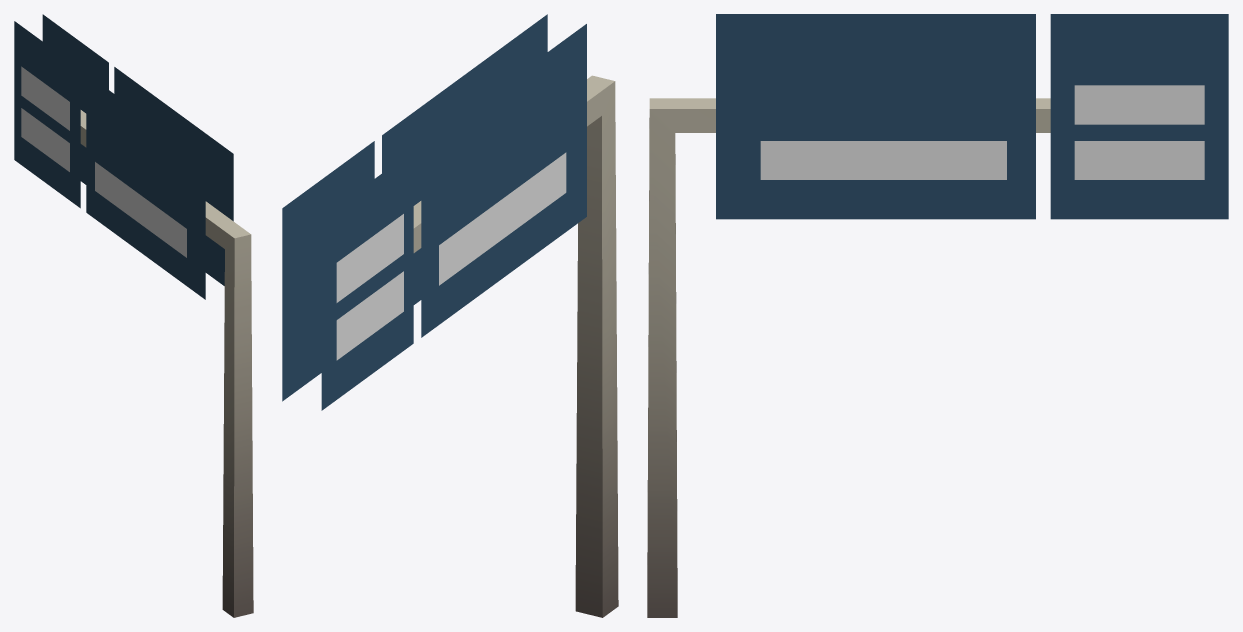
File: SM_Pole_04.fbx
3 renders of one model, left to right at view 1: azimuth 30°, elevation 25°; view 2: azimuth 150°, elevation 25°; view 3: azimuth 270°, elevation 25°, orthographic. The views are drawn at different scales.
Parts seen in each view (by area): view 1: SM_Pole_04; view 2: SM_Pole_04; view 3: SM_Pole_04.
Part boxes in pixels (bbox=[...]): SM_Pole_04: bbox=[14, 14, 253, 617]; SM_Pole_04: bbox=[282, 14, 618, 617]; SM_Pole_04: bbox=[647, 14, 1228, 617].
Size of the model in its own units: 0.0928 by 1.22 by 1.09.
